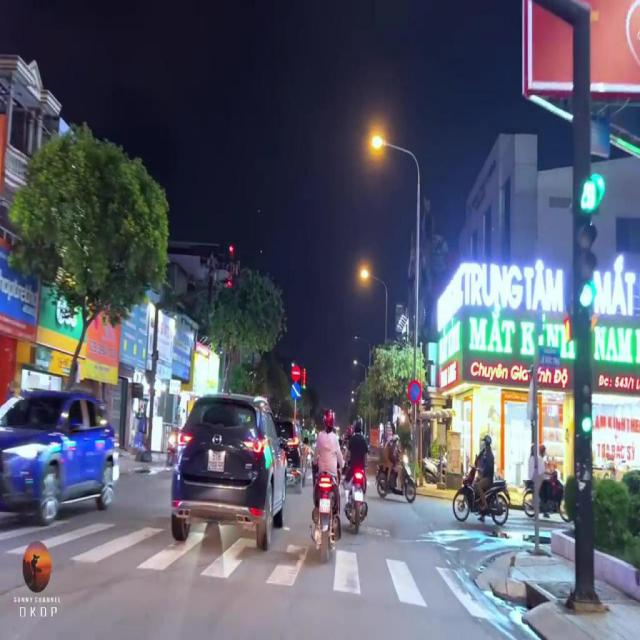cam_dung_xe_va_do_xe: (408, 379, 422, 405)
cam_xe_di_nguoc_chieu: (291, 364, 302, 384)
huong_phai_di_vuot_chuong_ngai_vat_phai: (290, 382, 302, 400)
